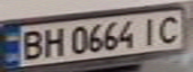0: (66, 22, 90, 56)
4: (118, 17, 139, 50)
6: (103, 19, 124, 52), (87, 20, 106, 53)
B: (15, 27, 48, 61)
C: (151, 12, 187, 44)
H: (39, 25, 66, 58)
I: (136, 15, 163, 46)
